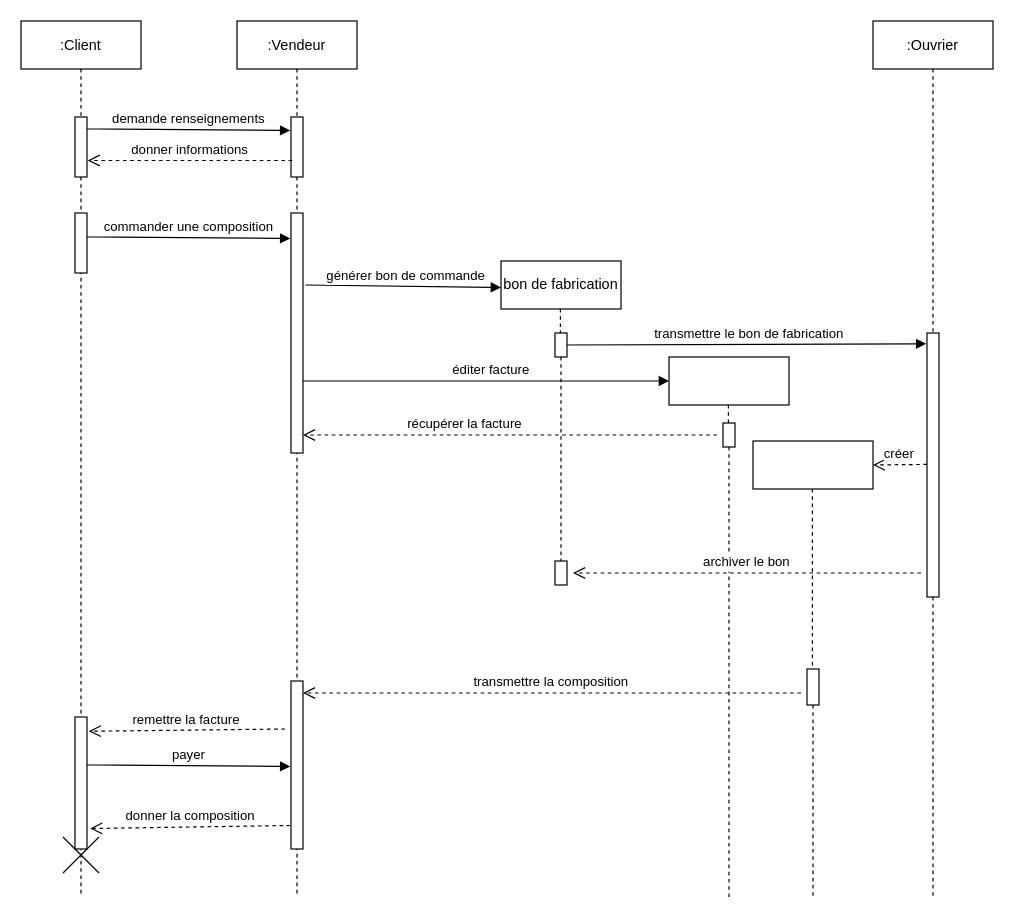
This 1014x922 diagram has some shape labels left out. The centre of each missing label's shape, as x and y in pixels:
composition: point (812, 464)
facture: point (728, 380)
